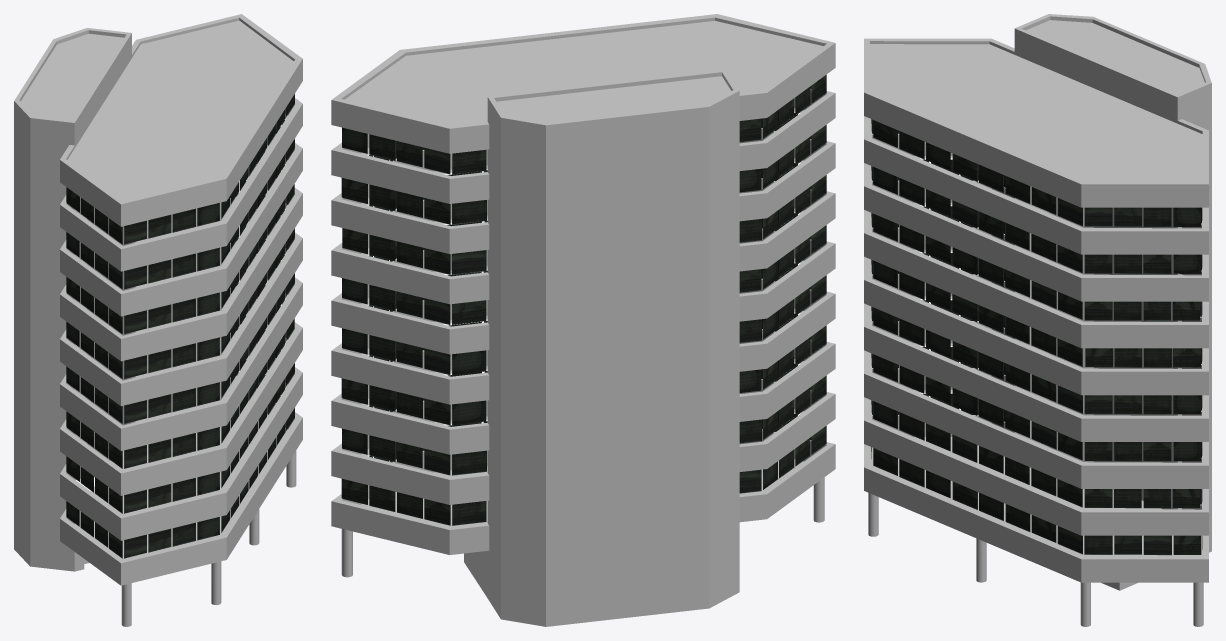
3 views of the same model, side by side, from view 1: azimuth 30°, elevation 25°; view 2: azimuth 150°, elevation 25°; view 3: azimuth 270°, elevation 25° (orthographic). The views are drawn at different scales.
Parts seen in each view (by area): view 1: BB-078; view 2: BB-078; view 3: BB-078.
Part boxes in pixels (bbox=[...]): BB-078: bbox=[14, 14, 302, 626]; BB-078: bbox=[331, 14, 835, 626]; BB-078: bbox=[864, 14, 1211, 626].
Size of what is drawn, in the model's own units: 20.17 by 30 by 20.17.
